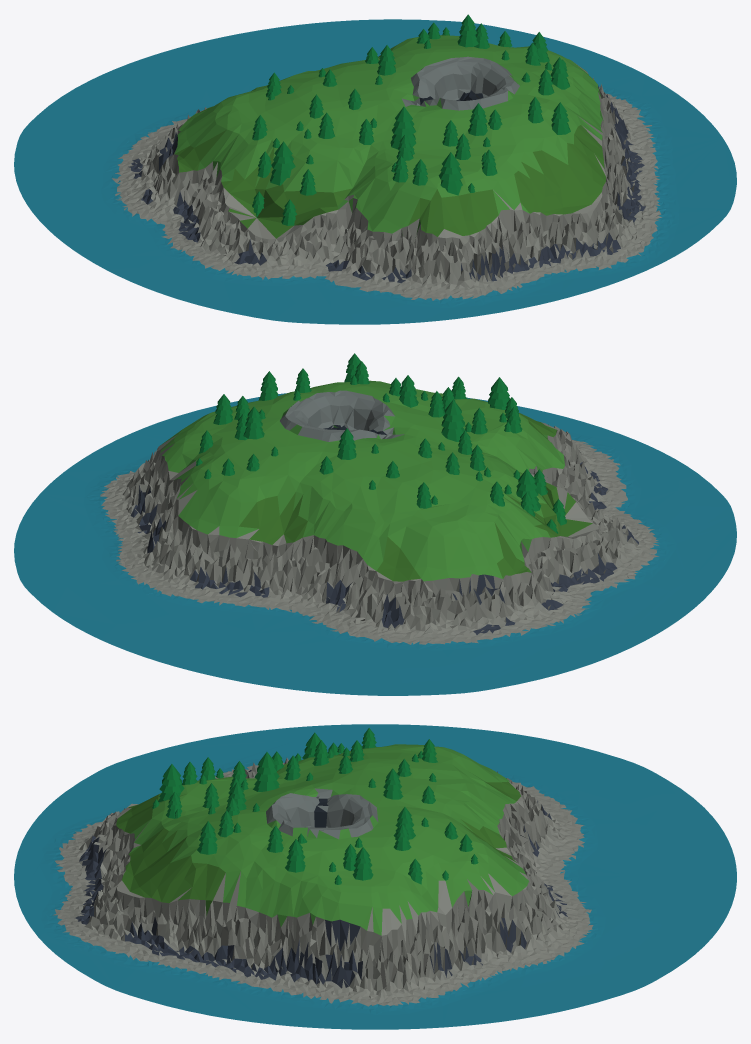
File: Island04.fbx
3 renders of one model, top to bottom at view 1: azimuth 30°, elevation 25°; view 2: azimuth 150°, elevation 25°; view 3: azimuth 270°, elevation 25°, orthographic. The views are drawn at different scales.
Parts seen in each view (by area): view 1: Cube.003; view 2: Cube.003; view 3: Cube.003.
Boxes of the visible parts, x1,y1,x2,y2 form: Cube.003: [14, 14, 736, 324]; Cube.003: [14, 353, 736, 695]; Cube.003: [14, 724, 736, 1029].
Bounding box in the file's own units: 91.53 × 17.3 × 91.53.
